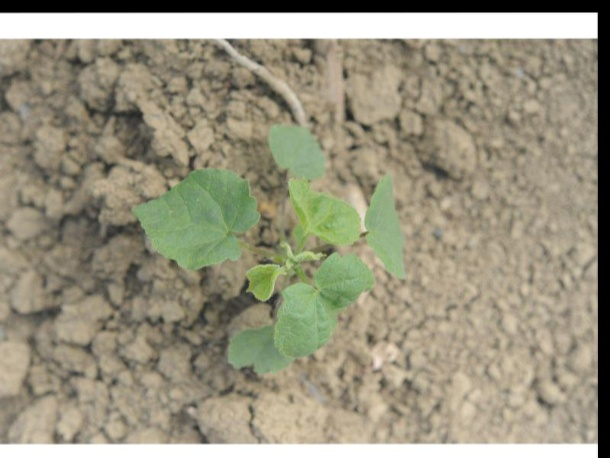velvet: (130, 120, 410, 376)
